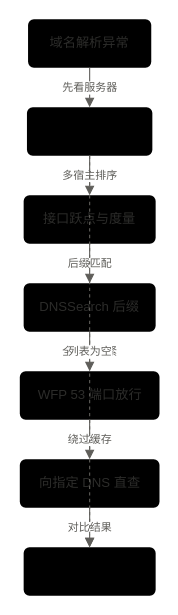
Image size: 178x615. Some labels were removed from this diagram. The shapes that lost their labels are listed below. From the top down, each one's centre as x and y in pixels, then its label:
At point (89, 131): "接口 DNS 列表".
At point (89, 571): "判定缺失或泄漏".
